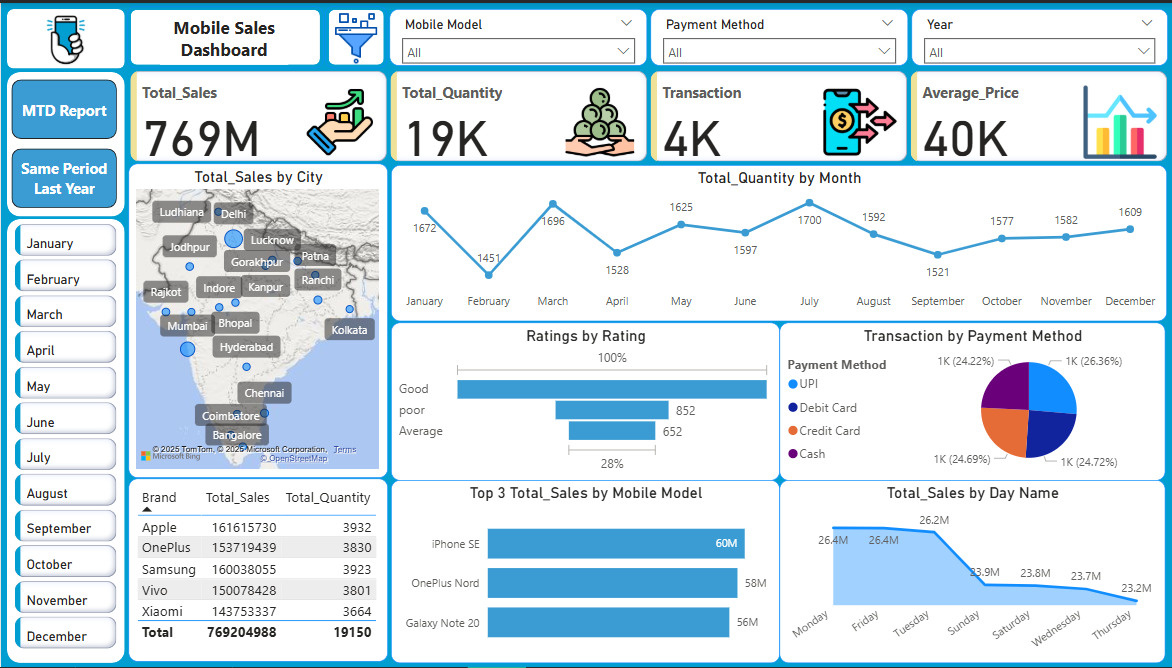

Layout of this report page (visuals, bound fields, positions):
{"tool":"powerbi","page":{"name":"Dashboard","canvas":[1280,725],"ordinal":0},"visuals":[{"type":"shape","box":[6.5,6.5,128.5,65.1],"z":0},{"type":"image","box":[26,0,89.5,79.7],"z":1000},{"type":"shape","box":[6.5,74.8,128.5,157.8],"z":2000},{"type":"shape","box":[6.5,235.8,128.5,484.7],"z":3000},{"type":"advancedSlicerVisual","fields":{"Values":["Custom_Calender.Date.Variation.Date Hierarchy.Month"]},"box":[9.8,235.8,122,484.7],"z":4000},{"type":"cardVisual","fields":{"Data":["Sales_Data.Total_Sales","Sales_Data.Total_Quantity","Sales_Data.Transaction","Sales_Data.Average_Price"]},"box":[136.3,68.1,1143.2,109],"z":5000},{"type":"slicer","fields":{"Values":["Sales_Data.Mobile Model"]},"box":[424.5,6.5,281.4,61.8],"z":6000},{"type":"slicer","fields":{"Values":["Sales_Data.Payment Method"]},"box":[709.2,6.5,281.4,61.8],"z":7000},{"type":"slicer","fields":{"Values":["Custom_Calender.Date.Variation.Date Hierarchy.Year"]},"box":[993.8,6.5,279.8,61.8],"z":8000},{"type":"shape","box":[353,3.3,68.3,68.3],"z":9000},{"type":"image","box":[315.5,4.9,143.1,66.7],"z":10000},{"type":"shape","box":[138.3,3.3,214.7,68.3],"z":11000},{"type":"textbox","box":[174,8.1,139.9,59],"z":12000},{"type":"map","fields":{"Category":["Sales_Data.City"],"Size":["Sales_Data.Total_Sales"]},"box":[139.9,175.7,283,343.2],"z":13000},{"type":"lineChart","fields":{"Category":["Custom_Calender.Date.Variation.Date Hierarchy.Month"],"Y":["Sales_Data.Total_Quantity"]},"box":[426.2,177.3,847.4,170.8],"z":14000},{"type":"funnel","title":"Ratings by Rating","fields":{"Category":["Sales_Data.Rating"],"Y":["CountNonNull(Sales_Data.Customer Ratings)"]},"box":[426.2,348.1,424.5,172.4],"z":15000},{"type":"pieChart","fields":{"Y":["Sales_Data.Transaction"],"Category":["Sales_Data.Payment Method"]},"box":[850.7,348.1,421.3,172.4],"z":16000},{"type":"clusteredBarChart","title":"Top 3 Total_Sales by Mobile Model","fields":{"Category":["Sales_Data.Mobile Model"],"Y":["Sales_Data.Total_Sales"]},"box":[426.2,520.5,424.5,200.1],"z":17000},{"type":"areaChart","fields":{"Y":["Sales_Data.Total_Sales"],"Category":["Custom_Calender.Day Name"]},"box":[850.7,520.5,421.3,200.1],"z":18000},{"type":"tableEx","fields":{"Values":["Sales_Data.Brand","Sales_Data.Total_Sales","Sales_Data.Total_Quantity"]},"box":[139.9,519.9,283,200.1],"z":19000},{"type":"pageNavigator","box":[11.4,83,115.5,141.5],"z":20000}]}

Visuals, with their boxes in screenshot pixels (x1, y1, x2, y2), scaled from the page's 1280x725 canvas onto the 1172x668 screenshot:
shape: x1=6, y1=6, x2=124, y2=66
image: x1=24, y1=0, x2=106, y2=73
shape: x1=6, y1=69, x2=124, y2=214
shape: x1=6, y1=217, x2=124, y2=664
advancedSlicerVisual - Custom_Calender.Date.Variation.Date Hierarchy.Month: x1=9, y1=217, x2=121, y2=664
cardVisual - Sales_Data.Total_Sales x Sales_Data.Total_Quantity: x1=125, y1=63, x2=1171, y2=163
slicer - Sales_Data.Mobile Model: x1=389, y1=6, x2=646, y2=63
slicer - Sales_Data.Payment Method: x1=649, y1=6, x2=907, y2=63
slicer - Custom_Calender.Date.Variation.Date Hierarchy.Year: x1=910, y1=6, x2=1166, y2=63
shape: x1=323, y1=3, x2=386, y2=66
image: x1=289, y1=5, x2=420, y2=66
shape: x1=127, y1=3, x2=323, y2=66
textbox: x1=159, y1=7, x2=287, y2=62
map - Sales_Data.City x Sales_Data.Total_Sales: x1=128, y1=162, x2=387, y2=478
lineChart - Custom_Calender.Date.Variation.Date Hierarchy.Month x Sales_Data.Total_Quantity: x1=390, y1=163, x2=1166, y2=321
"Ratings by Rating" funnel: x1=390, y1=321, x2=779, y2=480
pieChart - Sales_Data.Transaction x Sales_Data.Payment Method: x1=779, y1=321, x2=1165, y2=480
"Top 3 Total_Sales by Mobile Model" clusteredBarChart: x1=390, y1=480, x2=779, y2=664
areaChart - Sales_Data.Total_Sales x Custom_Calender.Day Name: x1=779, y1=480, x2=1165, y2=664
tableEx - Sales_Data.Brand x Sales_Data.Total_Sales: x1=128, y1=479, x2=387, y2=663
pageNavigator: x1=10, y1=76, x2=116, y2=207
